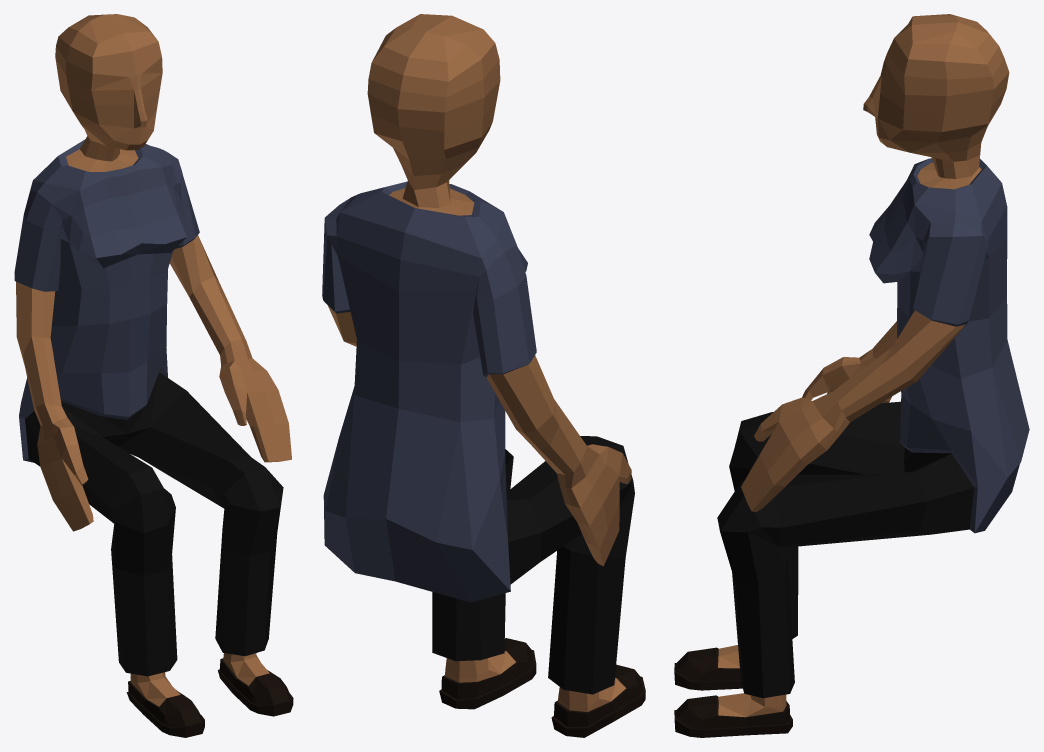
File: Female_Sitting.obj
The picture shows the model from 3 angles, left to right: view 1: azimuth 30°, elevation 25°; view 2: azimuth 150°, elevation 25°; view 3: azimuth 270°, elevation 25°; orthographic projection. The views are drawn at different scales.
Visible parts, largest first — view 1: Female_Sitting_Cylinder.005; view 2: Female_Sitting_Cylinder.005; view 3: Female_Sitting_Cylinder.005.
Part boxes in pixels (x1=…): Female_Sitting_Cylinder.005: x1=14, y1=14, x2=293, y2=737; Female_Sitting_Cylinder.005: x1=322, y1=14, x2=645, y2=737; Female_Sitting_Cylinder.005: x1=674, y1=14, x2=1029, y2=737.
Bounding box in the file's own units: 1.02 × 2.97 × 1.41.
